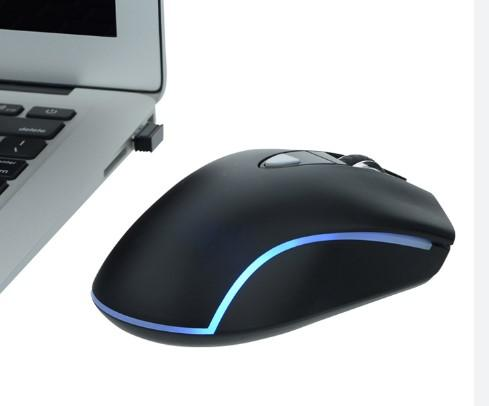computer mouse: (90, 148, 456, 348)
